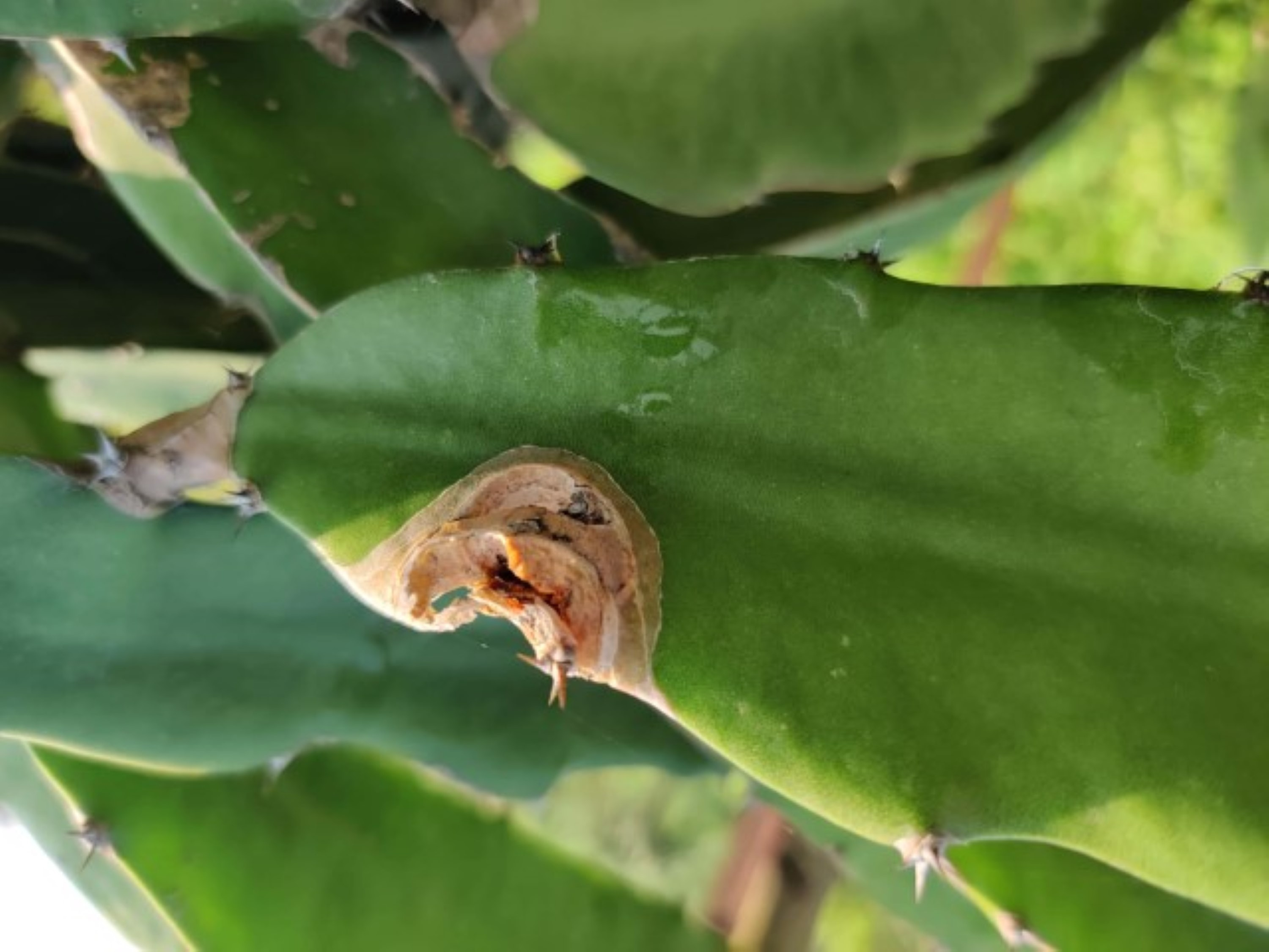stemcanker: (311, 417, 751, 795)
